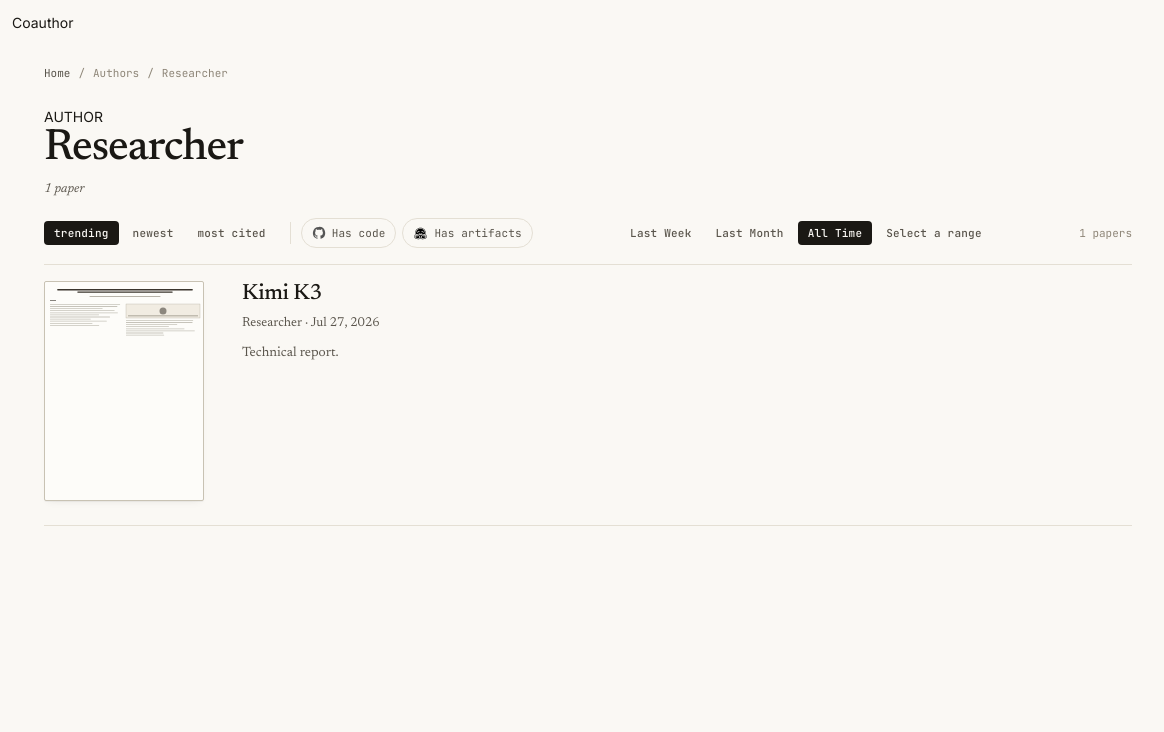
it: AuthorDetailView › never shows the previous author's papers while another author loads
Expected: the link "Kimi K3" is shown, [242, 283, 322, 305]
Click the link "Coauthor" at (43, 22), box [12, 14, 73, 31]
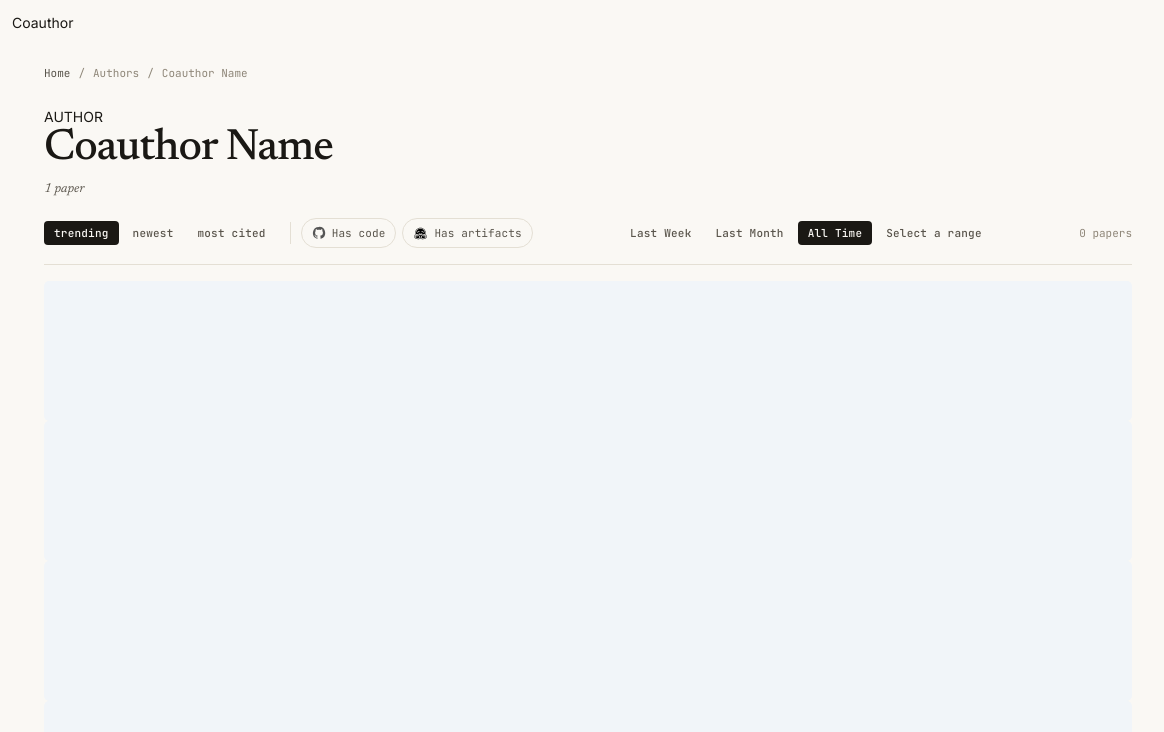
Expected: the heading "Coauthor Name" is shown, [44, 126, 333, 170]
Expected: the link "Kimi K3" is gone
